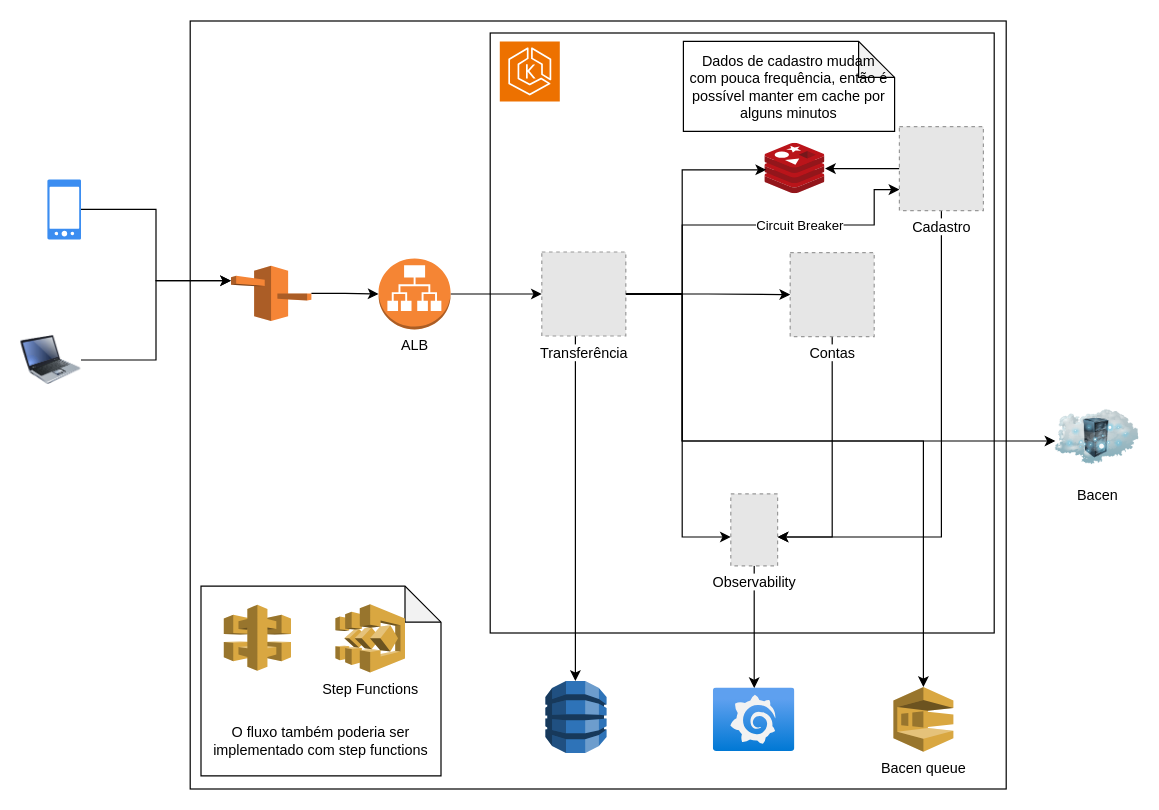
Image size: 1159x810. Some labels were removed from this diagram. Grey dashed boxes stand in for pictures. The box of each missing label's shape, as (x1, y1, x2, y2) in pixels:
API Gateway: (223, 604, 291, 671)
Audit: (544, 680, 607, 753)
Dashboards: (713, 688, 794, 751)
EKS: (499, 40, 560, 101)
Route 53: (230, 265, 311, 321)
